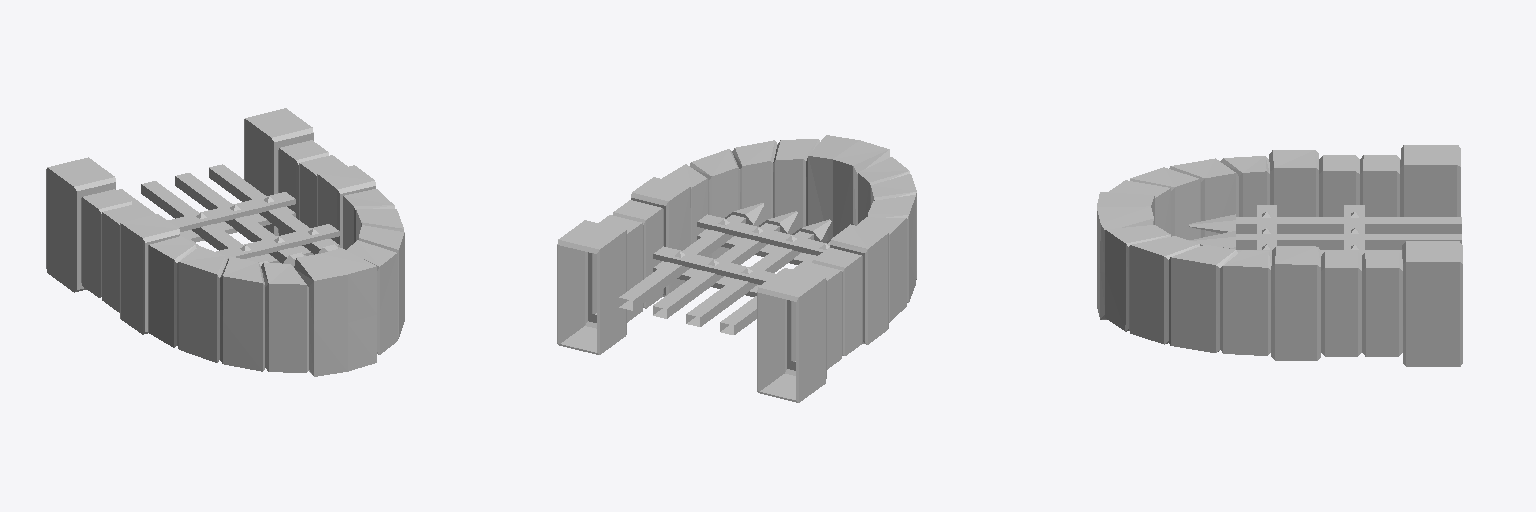
File: gate_trial.obj
The picture shows the model from 3 angles: view 1: azimuth 30°, elevation 25°; view 2: azimuth 150°, elevation 25°; view 3: azimuth 270°, elevation 25°; orthographic projection.
Parts seen in each view (by area): view 1: Stone_Border, Metal_Bar002, Metal_Bar001, Metal_Bar003, Metal_Support002, Metal_Support001; view 2: Stone_Border, Metal_Bar001, Metal_Bar003, Metal_Bar002, Metal_Support001, Metal_Support002, Metal_Bar004; view 3: Stone_Border, Metal_Bar004, Metal_Bar003, Metal_Support002, Metal_Support001.
Part boxes in pixels (x1,y1,x2,y2): Stone_Border: (46,108,404,376); Metal_Bar002: (175,173,305,266); Metal_Bar001: (209,164,339,254); Metal_Bar003: (141,181,269,265); Metal_Support002: (168,192,295,231); Metal_Support001: (216,224,339,259); Stone_Border: (557,135,916,402); Metal_Bar001: (619,203,763,310); Metal_Bar003: (686,219,831,326); Metal_Bar002: (653,211,797,318); Metal_Support001: (697,214,829,255); Metal_Support002: (653,246,774,284); Metal_Bar004: (720,236,834,334); Stone_Border: (1097,145,1462,366); Metal_Bar004: (1189,214,1461,233); Metal_Bar003: (1189,231,1461,249); Metal_Support002: (1344,205,1364,255); Metal_Support001: (1257,205,1276,254).
Size of the model in its own units: 1.67 by 0.7026 by 2.21.